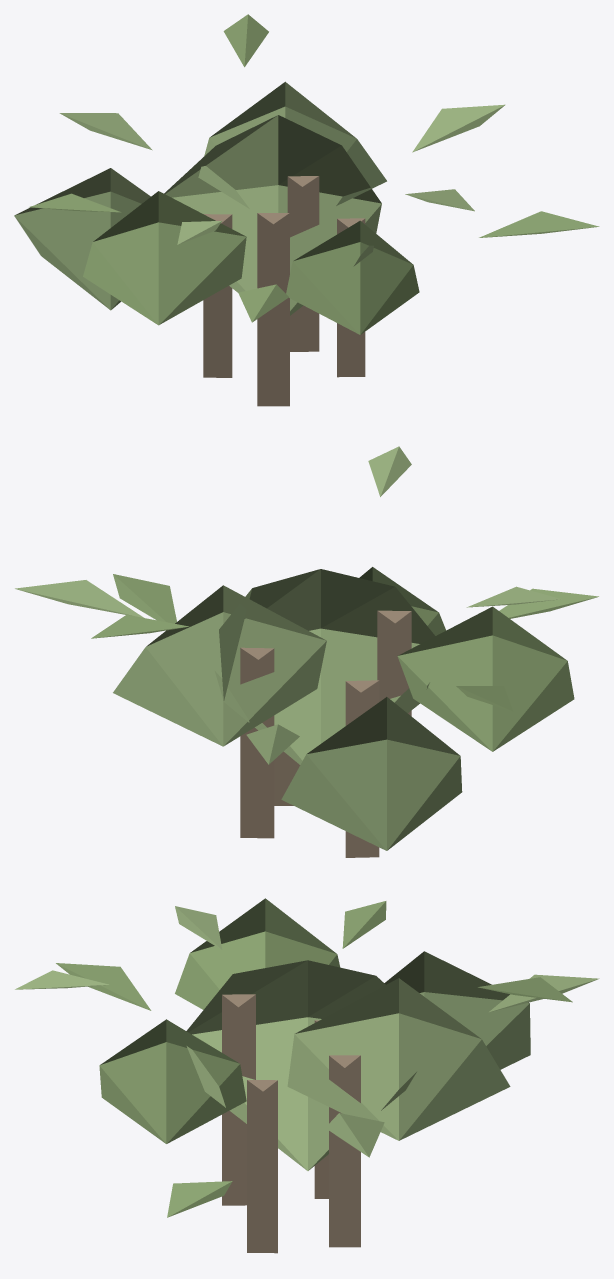
Rendered from guan.lianqiao@subadult__summer.glb.
3 views of the same model, one above another, from view 1: azimuth 30°, elevation 25°; view 2: azimuth 150°, elevation 25°; view 3: azimuth 270°, elevation 25° (orthographic). The views are drawn at different scales.
Visible parts, largest first — view 1: guan.lianqiao@subadult__summer; view 2: guan.lianqiao@subadult__summer; view 3: guan.lianqiao@subadult__summer.
Part boxes in pixels (x1,y1,x2,y2): guan.lianqiao@subadult__summer: (14, 14, 599, 406); guan.lianqiao@subadult__summer: (15, 446, 598, 857); guan.lianqiao@subadult__summer: (15, 898, 599, 1253).
Bounding box in the file's own units: 1.69 × 0.8787 × 1.67.
